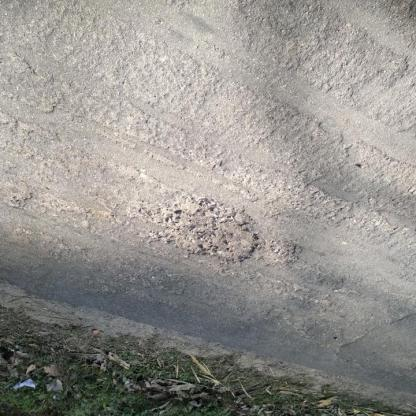pothole: (146, 192, 262, 268)
